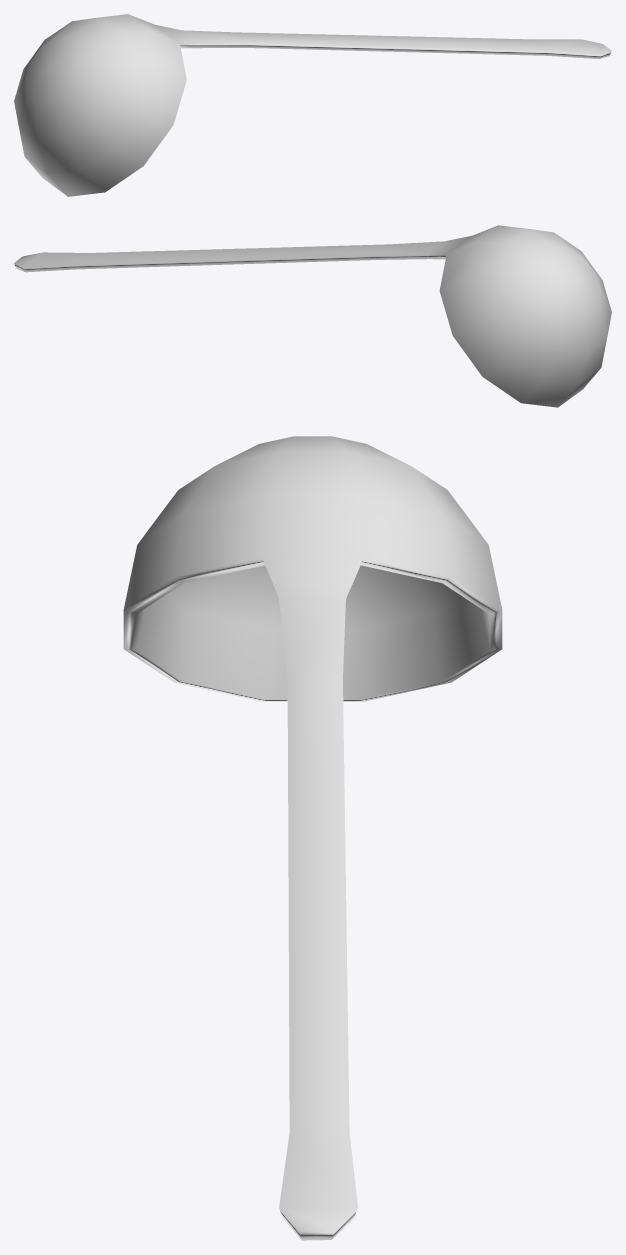
The model's file is spoonLarge.fbx.
3 renders of one model, top to bottom at view 1: azimuth 30°, elevation 25°; view 2: azimuth 150°, elevation 25°; view 3: azimuth 270°, elevation 25°, orthographic. The views are drawn at different scales.
Parts seen in each view (by area): view 1: pSphere6; view 2: pSphere6; view 3: pSphere6.
Boxes of the visible parts, box(x1,y1,x2,y2) form: pSphere6: box(14, 14, 611, 196); pSphere6: box(14, 225, 611, 407); pSphere6: box(123, 436, 502, 1240).
Size of the model in its own units: 0.8728 by 0.2173 by 0.2475.
Materials: 1 (1 with a texture image).
